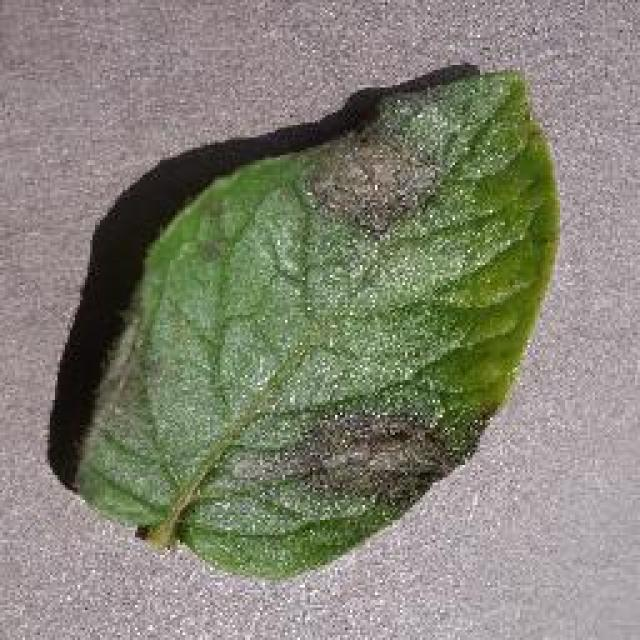late_blight: (53, 60, 565, 585)
